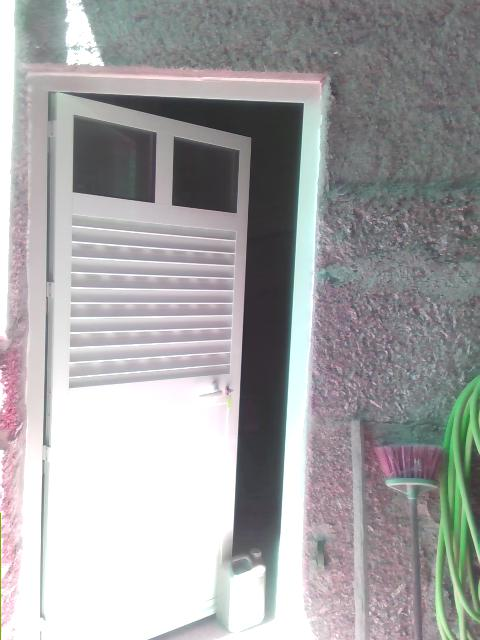semi_door: (23, 72, 326, 639)
